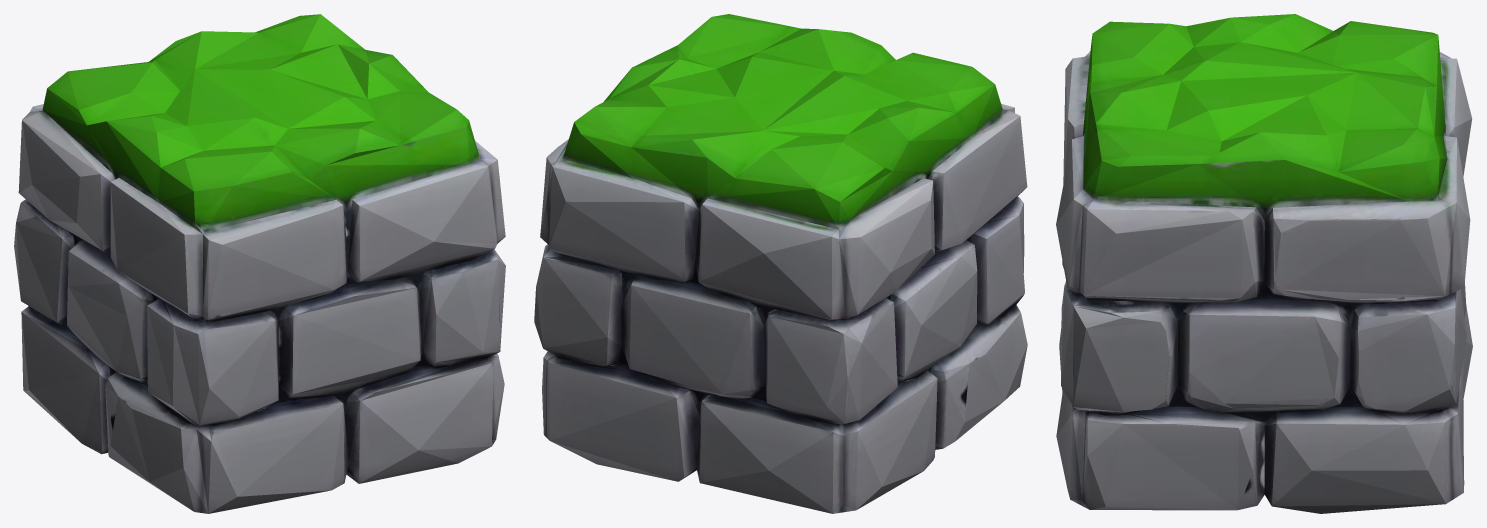
Rendered from wall_moss.glb.
3 renders of one model, left to right at view 1: azimuth 30°, elevation 25°; view 2: azimuth 150°, elevation 25°; view 3: azimuth 270°, elevation 25°, orthographic. The views are drawn at different scales.
Parts seen in each view (by area): view 1: tmpf9k75iuz.ply; view 2: tmpf9k75iuz.ply; view 3: tmpf9k75iuz.ply.
Part boxes in pixels (x1,y1,x2,y2): tmpf9k75iuz.ply: (14,14,505,513); tmpf9k75iuz.ply: (534,14,1027,513); tmpf9k75iuz.ply: (1056,14,1472,513).
Bounding box in the file's own units: 1.98 × 1.94 × 1.99.
1 material, 1 textured.
